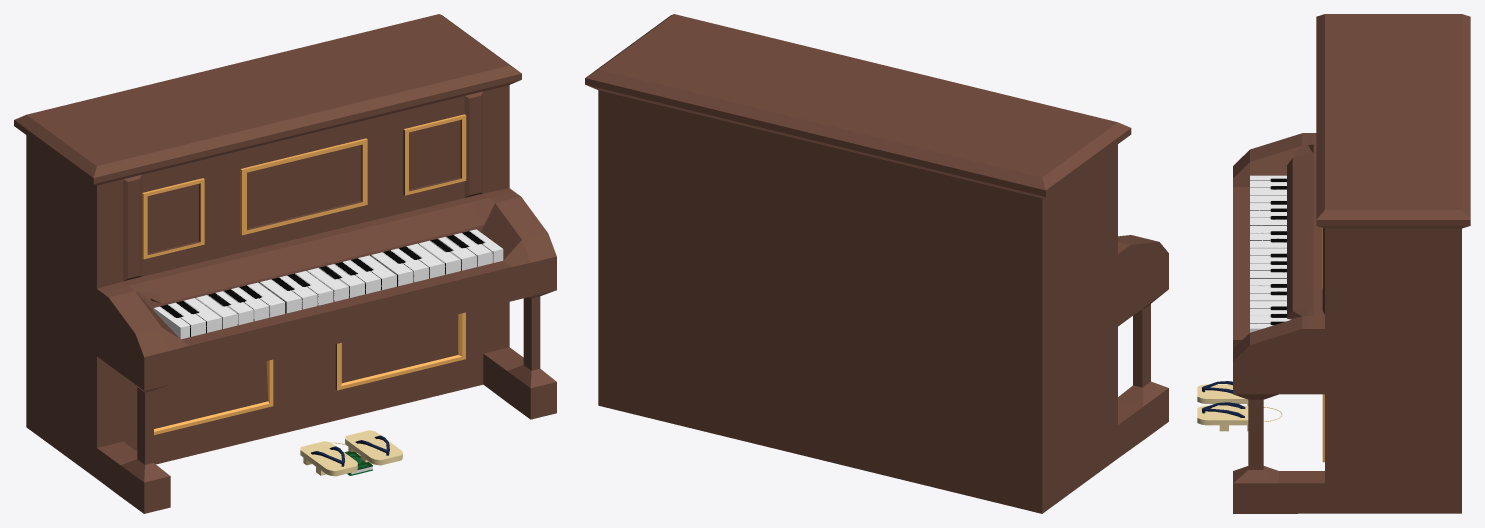
3 views of the same model, side by side, from view 1: azimuth 30°, elevation 25°; view 2: azimuth 150°, elevation 25°; view 3: azimuth 270°, elevation 25° (orthographic). The views are drawn at different scales.
Visible parts, largest first — view 1: piano, shoebase.001; view 2: piano; view 3: piano, shoebase.001.
Boxes of the visible parts, x1,y1,x2,y2 form: piano: [14, 14, 556, 513]; shoebase.001: [300, 430, 402, 476]; piano: [585, 14, 1168, 513]; piano: [1233, 14, 1470, 513]; shoebase.001: [1197, 381, 1248, 431].
Bounding box in the file's own units: 2.08 × 1.45 × 1.18.
8 materials, 3 textured.
